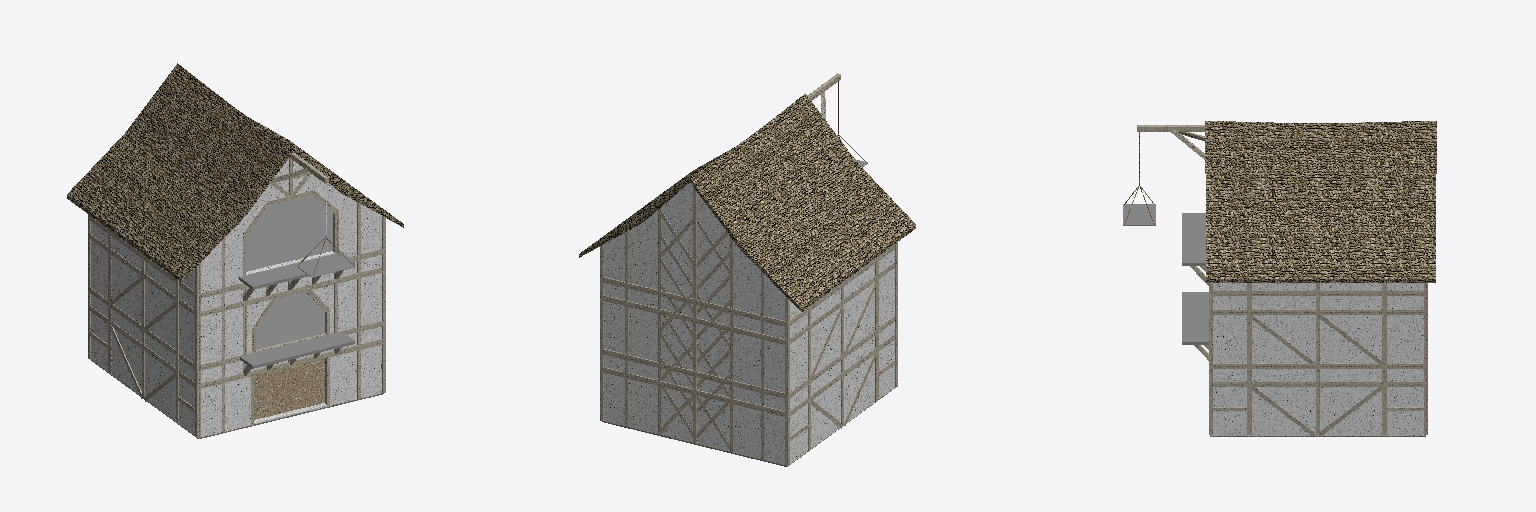
The picture shows the model from 3 angles: view 1: azimuth 30°, elevation 25°; view 2: azimuth 150°, elevation 25°; view 3: azimuth 270°, elevation 25°; orthographic projection.
Visible parts, largest first — view 1: Box5826; view 2: Box5826; view 3: Box5826.
Part boxes in pixels (x1,y1,x2,y2): Box5826: (67,63,403,438); Box5826: (579,73,915,466); Box5826: (1123,121,1436,436).
Bounding box in the file's own units: 12.02 × 13.97 × 14.66.
6 materials, 5 textured.